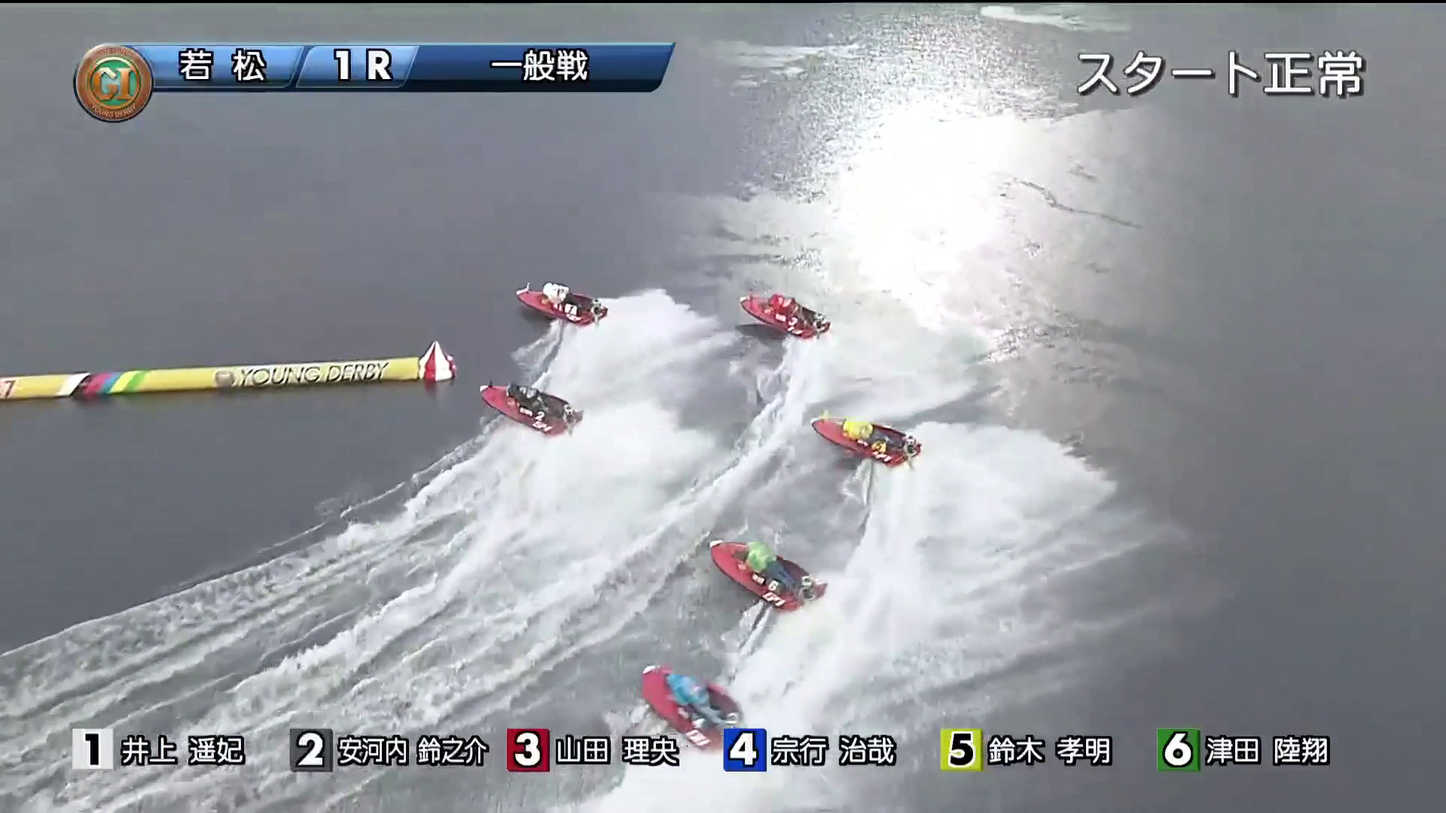１号艇: (499, 285, 569, 339)
２号艇: (448, 375, 576, 435)
３号艇: (742, 282, 840, 328)
４号艇: (699, 534, 833, 599)
５号艇: (643, 669, 767, 724)
６号艇: (817, 397, 917, 473)
